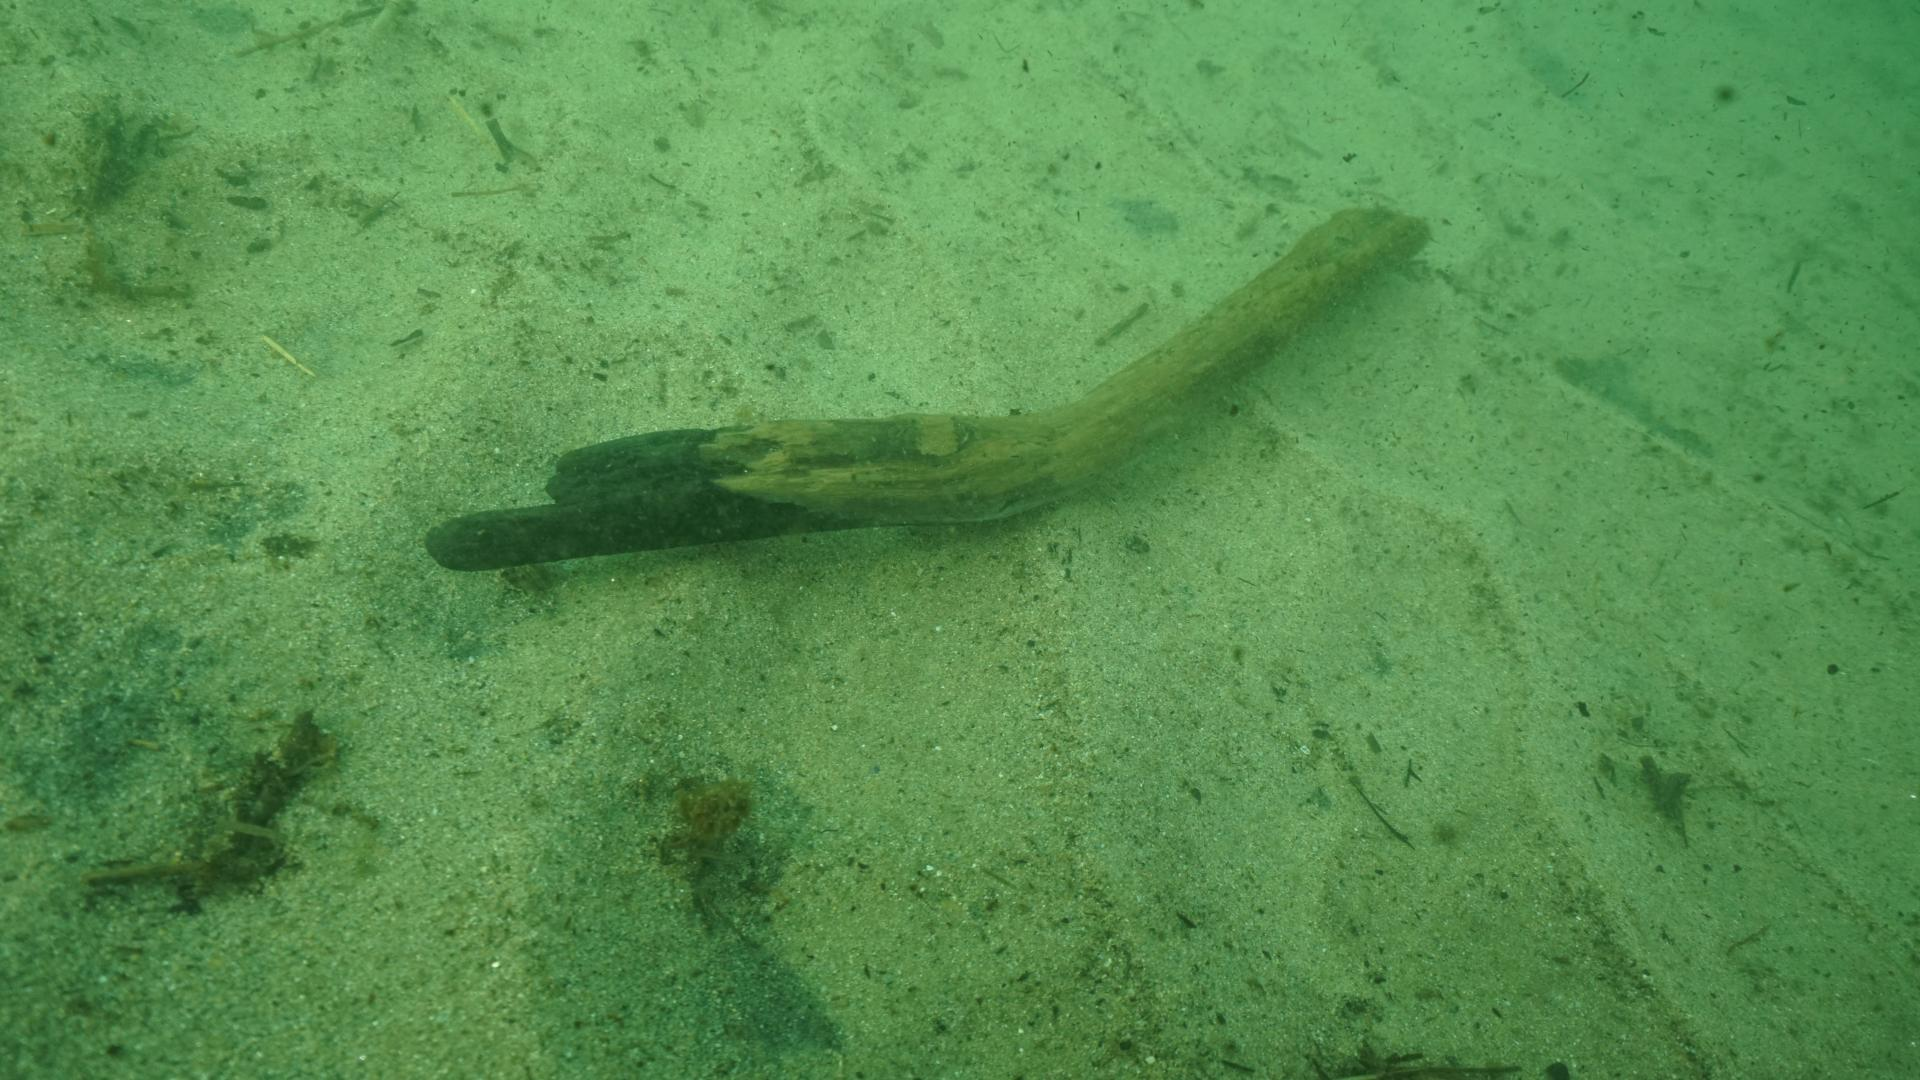wood: (421, 203, 1429, 572)
